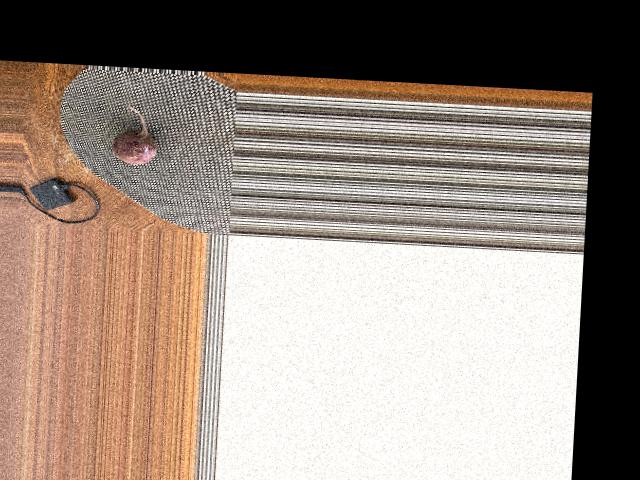beet: (111, 104, 159, 164)
